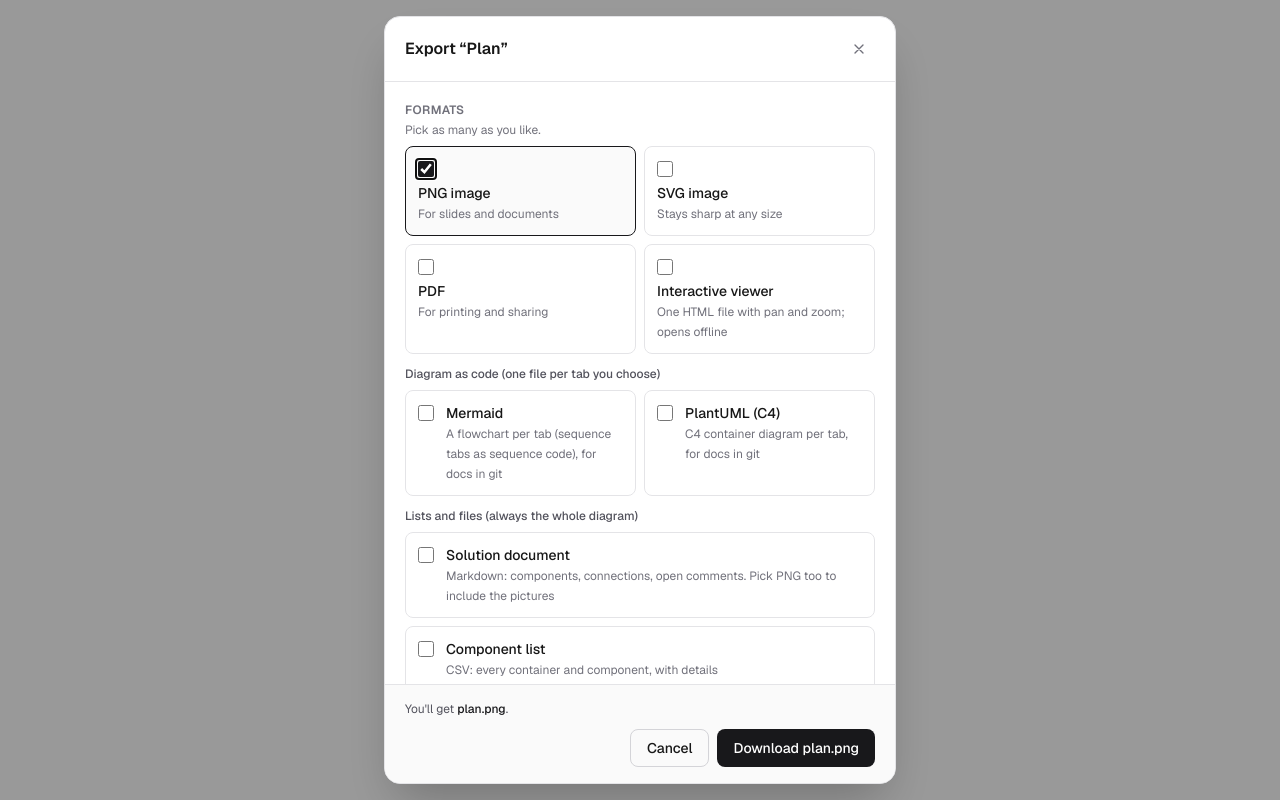
Test case: ExportDialog › offers the interactive viewer and says which file it will make
expect the button "Download plan.png" is shown: met, box [718,729,875,767]
Click the checkbox labelled "Interactive viewer" at [665, 267], box [657,259,673,275]
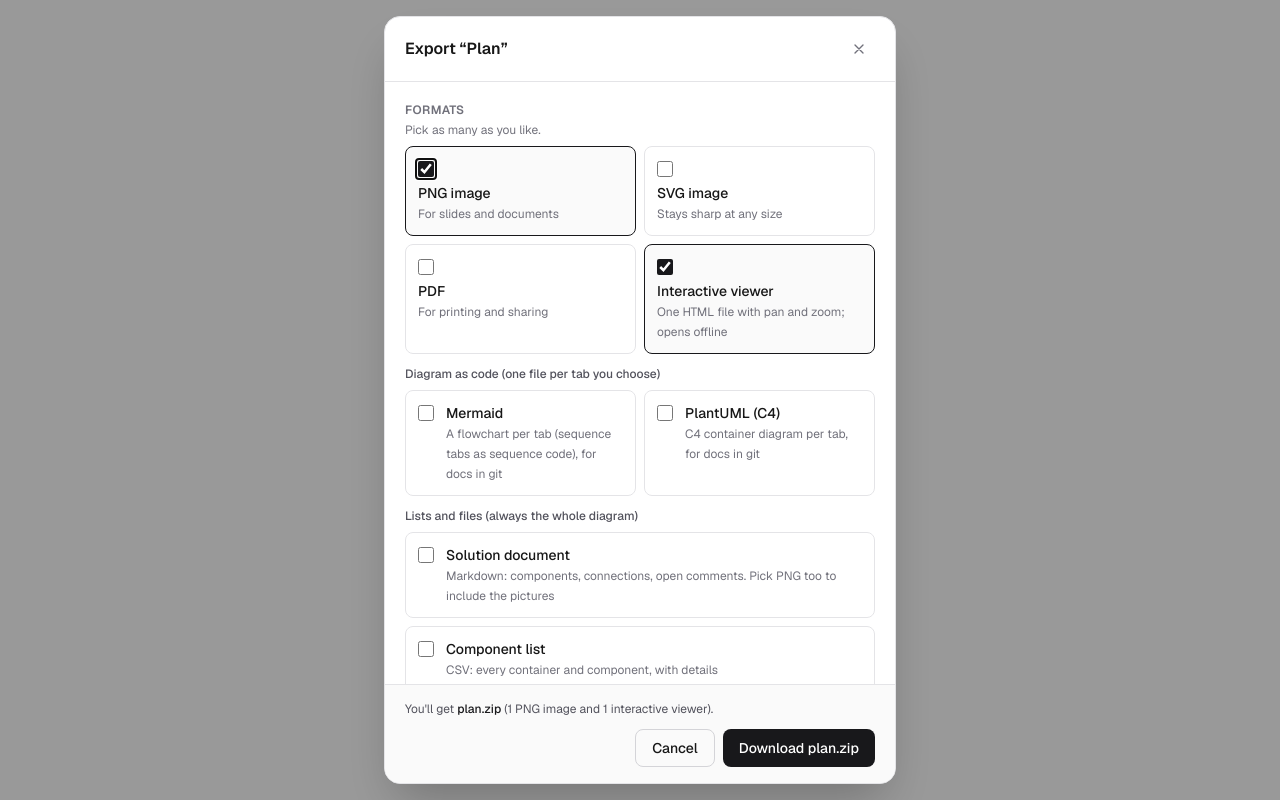
Click the checkbox labelled "PNG image For slides and documents" at [426, 169], box [418,161,434,177]
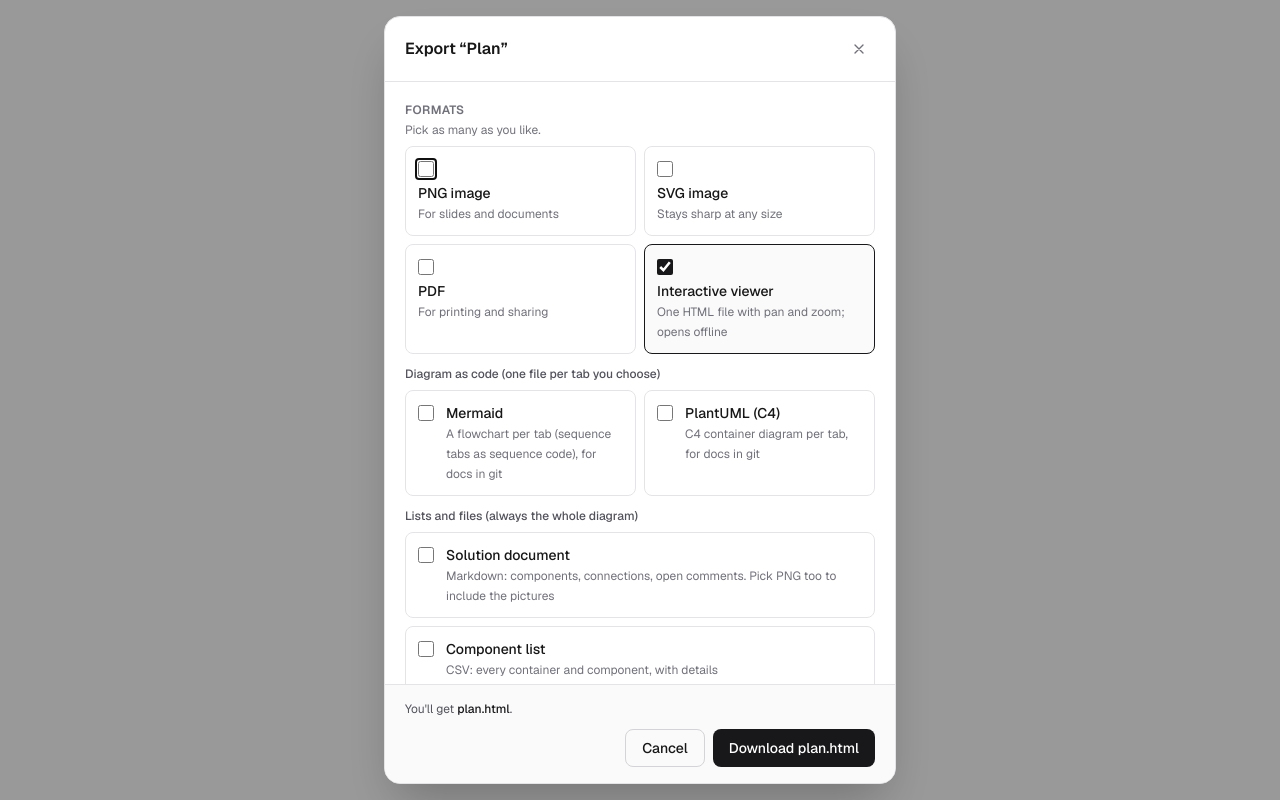
expect the button "Download plan.html" is shown: met, box [713,729,875,767]
